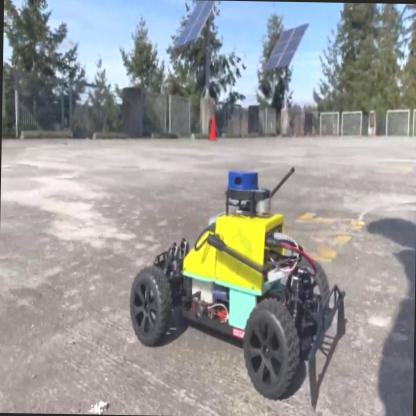cone: (209, 115, 217, 142)
mushr_car: (125, 156, 351, 404)
